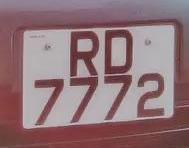2: (133, 67, 171, 122)
7: (29, 72, 68, 132), (66, 74, 104, 129), (100, 73, 137, 124)
D: (98, 22, 139, 77)
R: (61, 26, 105, 80)
